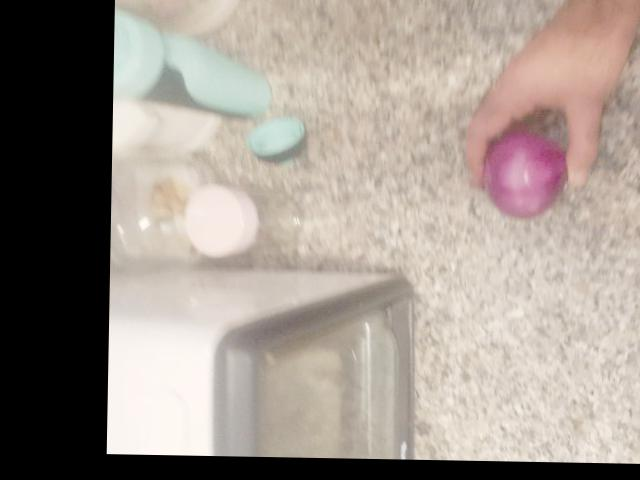onion: (484, 97, 601, 216)
